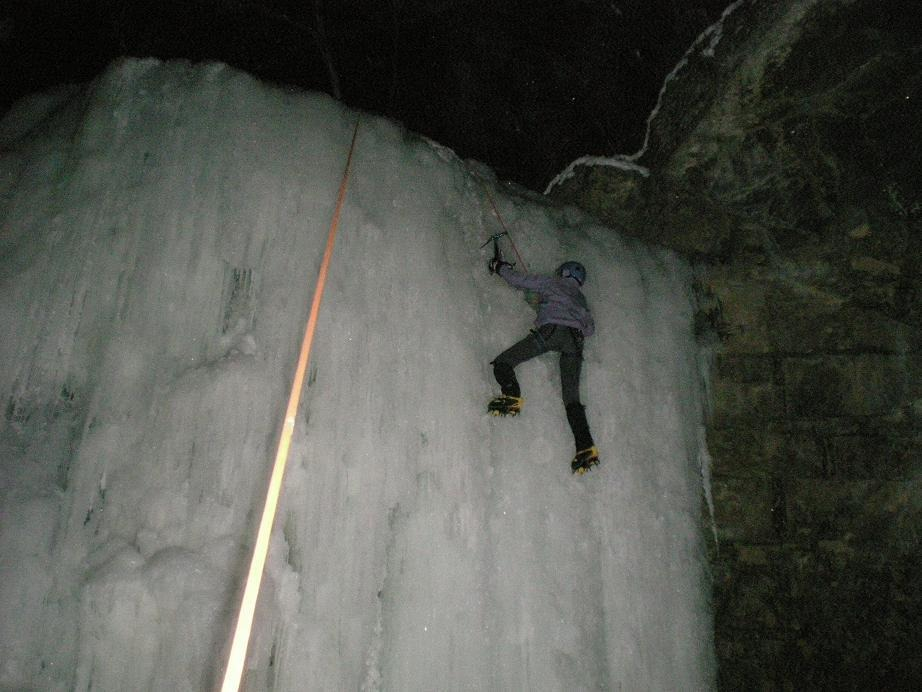helmet: (548, 254, 591, 288)
